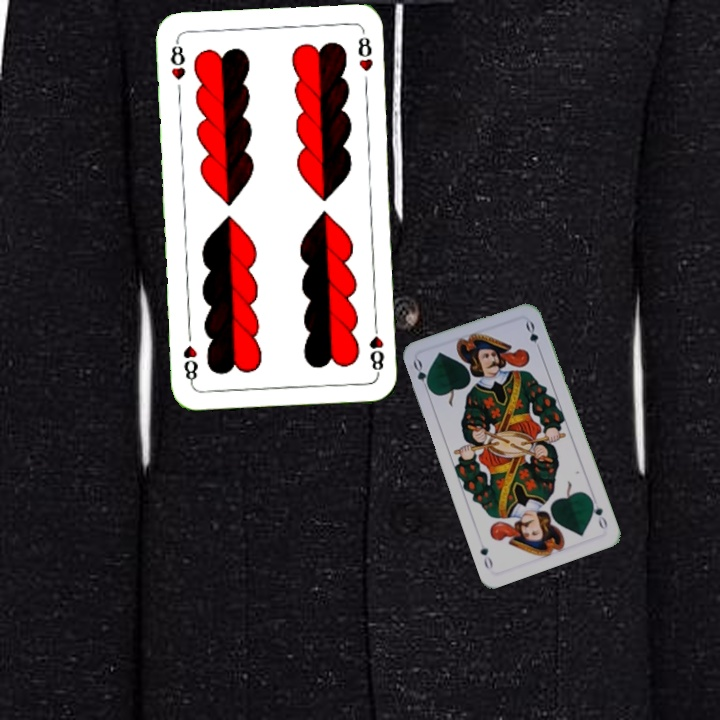GO: (409, 355, 434, 395), (586, 493, 610, 532)
H8: (365, 318, 387, 377), (166, 37, 188, 83)
